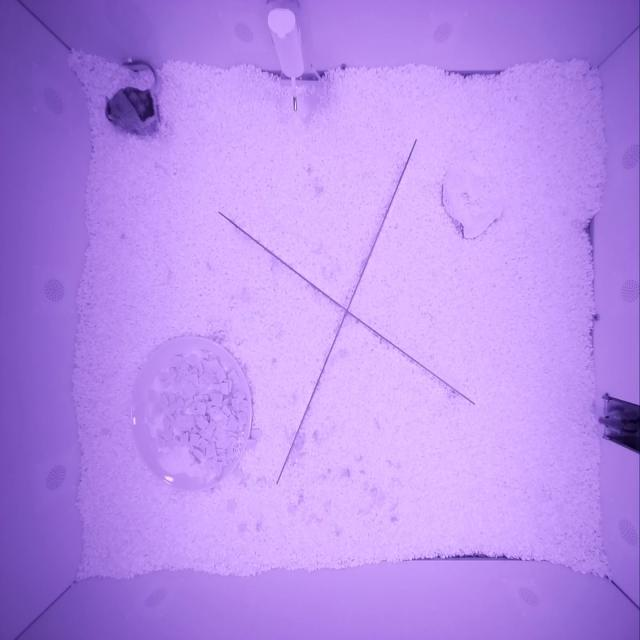adult_back: (105, 86, 159, 130)
pup_v_stripe: (598, 411, 640, 436)
